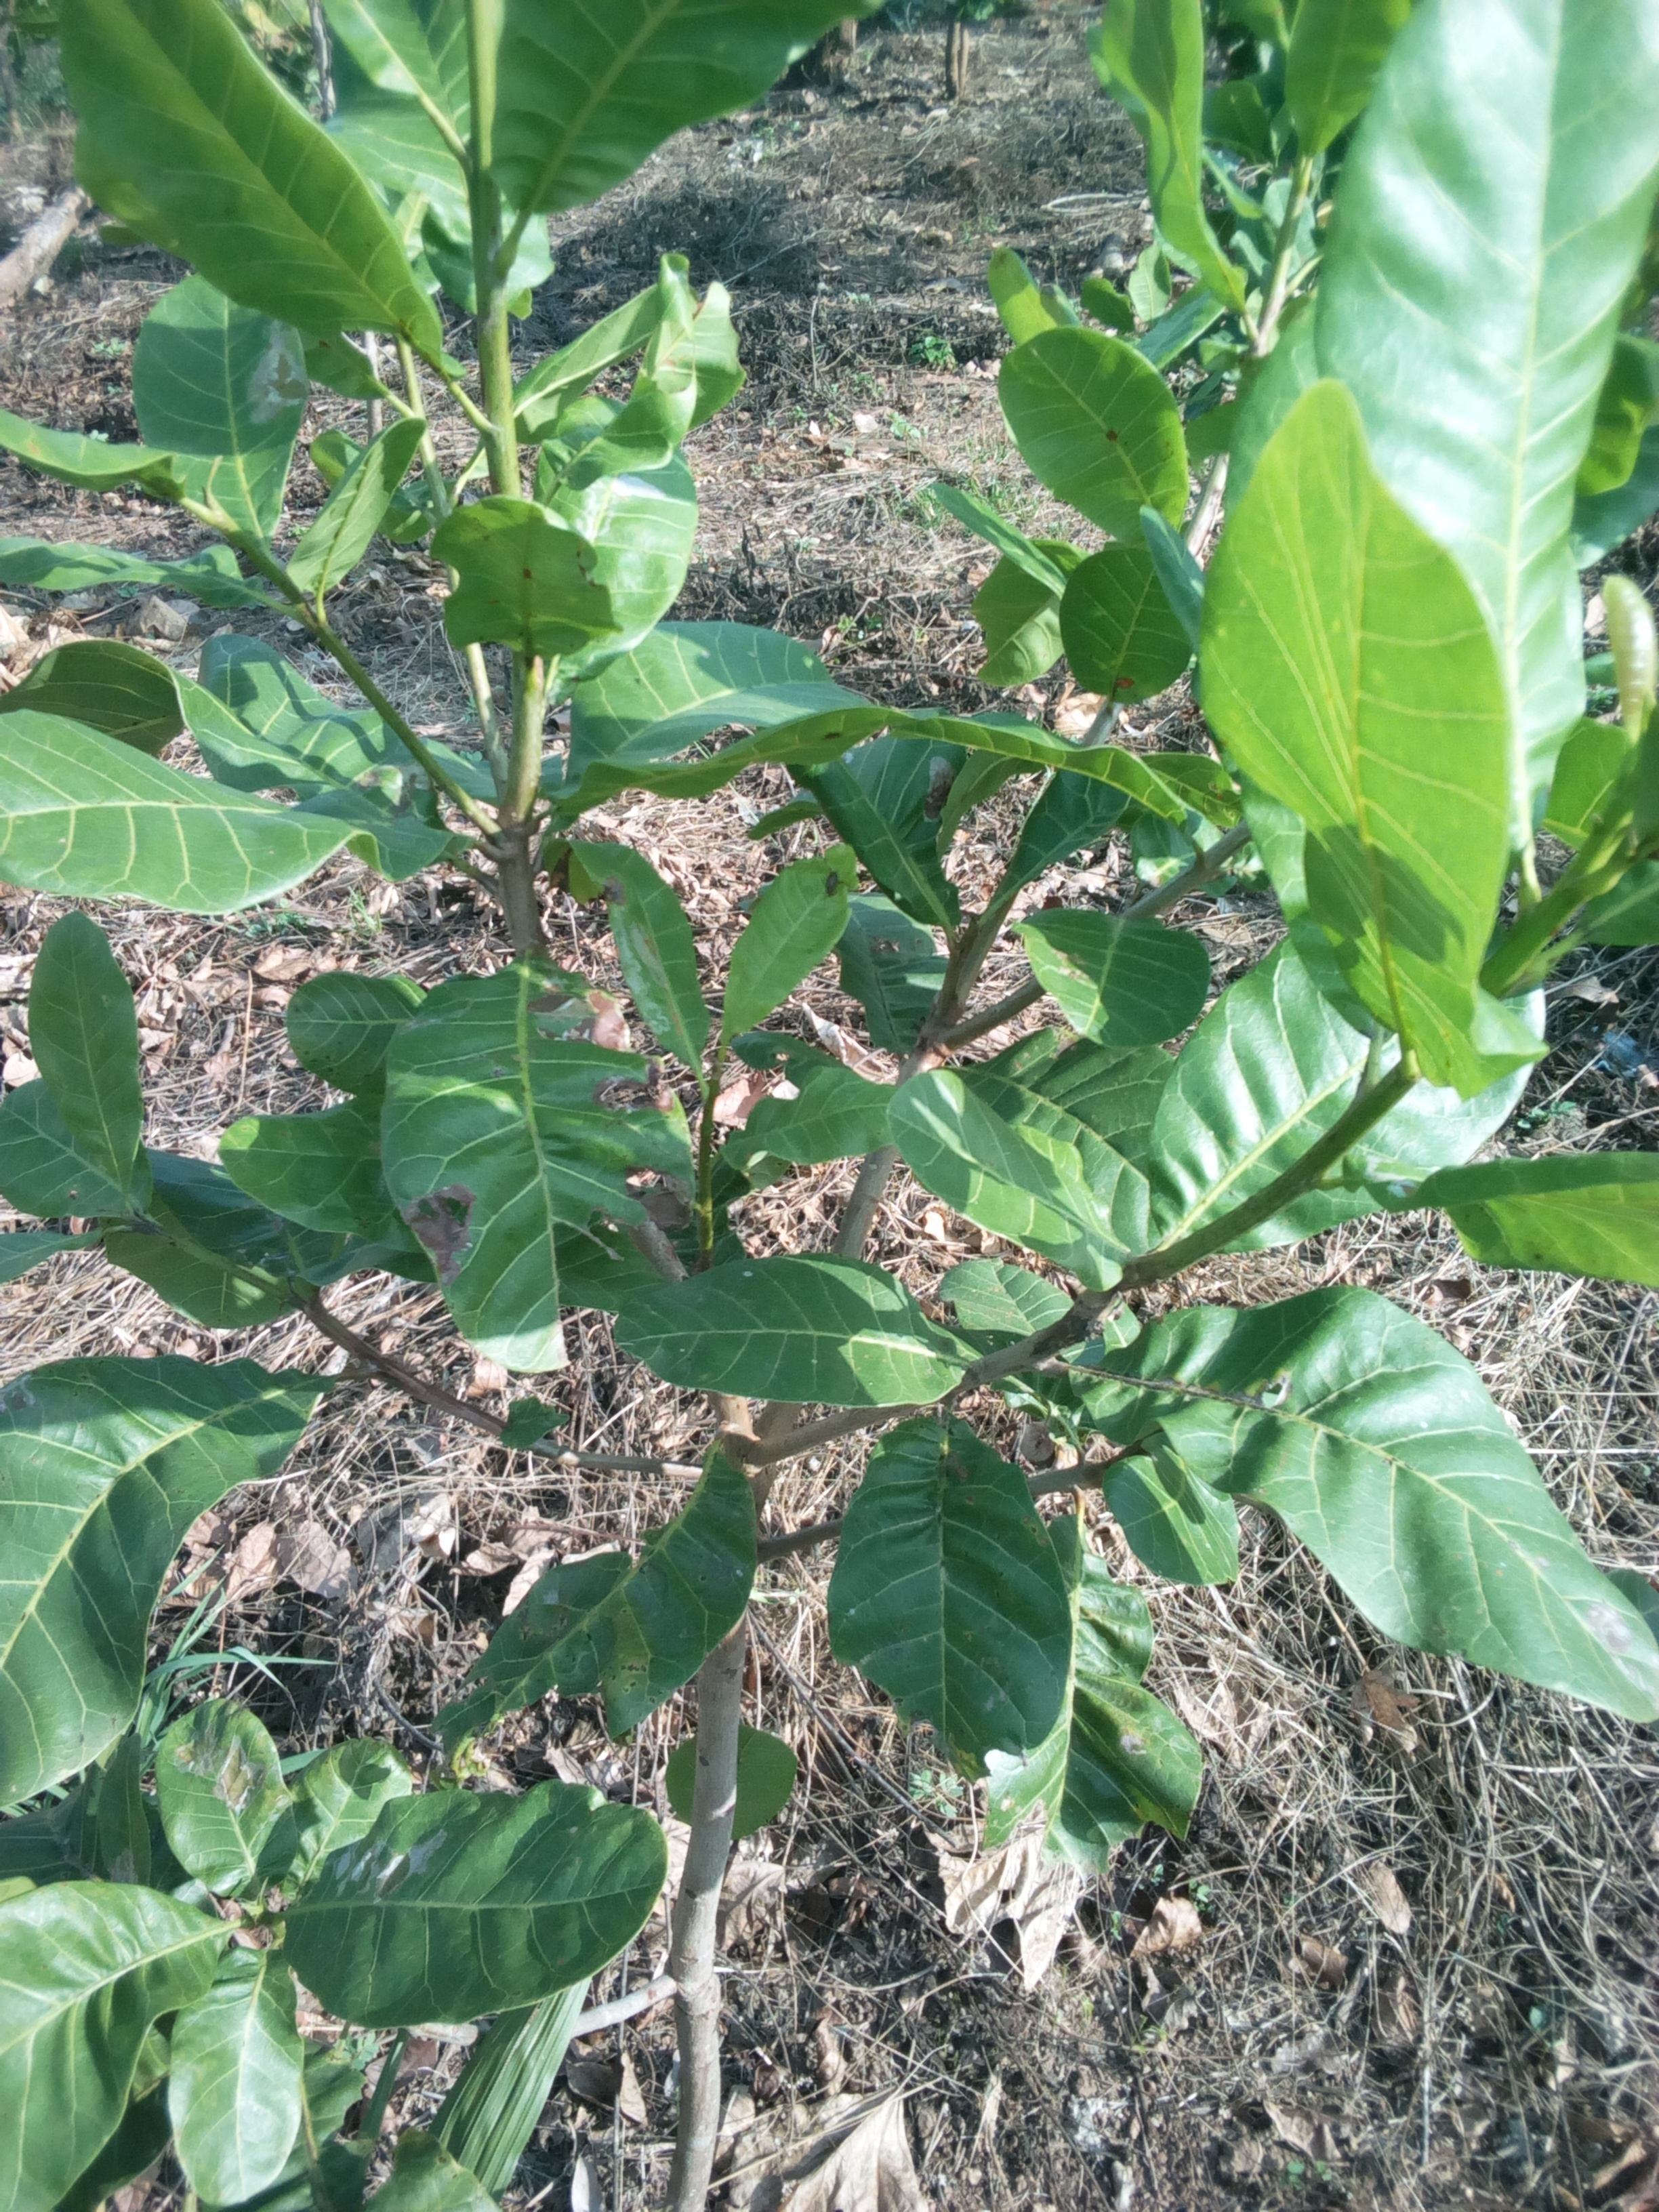Bactériose: (385, 974, 671, 1357)
